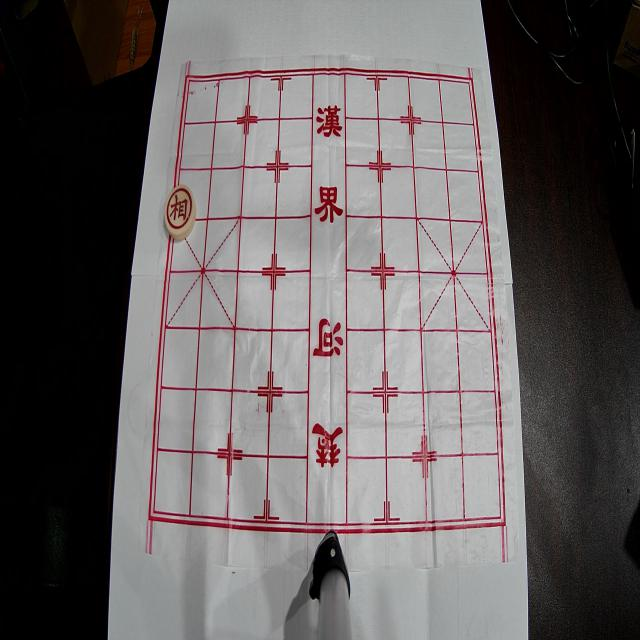red-elephant: (164, 185, 197, 241)
